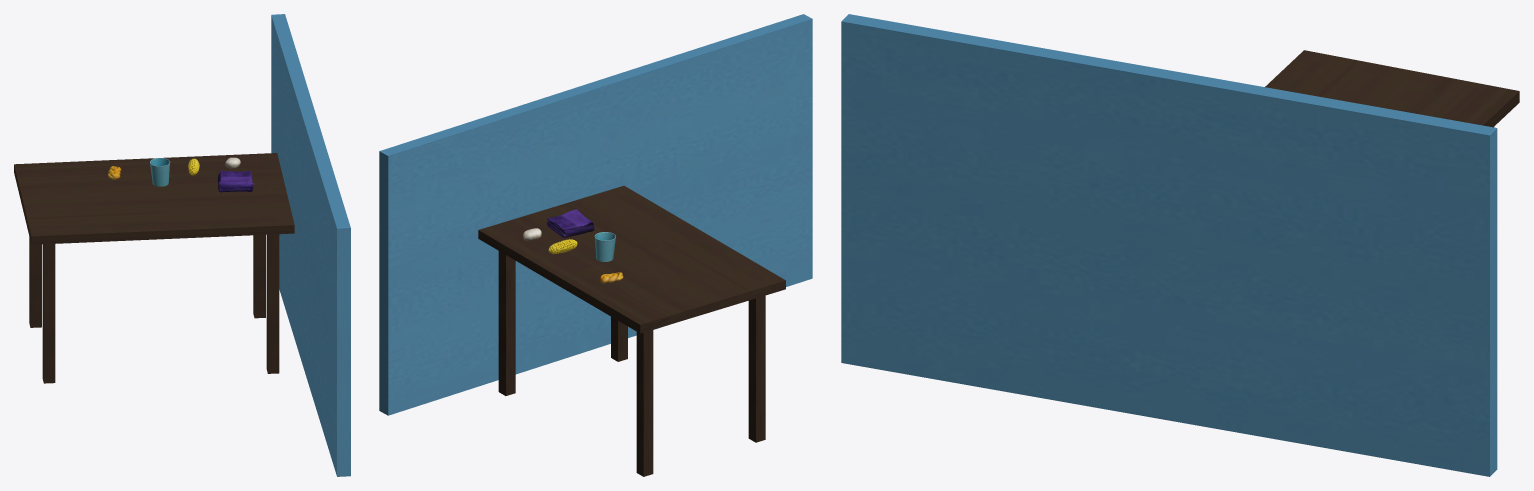
Rendered from ours.glb.
3 views of the same model, side by side, from view 1: azimuth 30°, elevation 25°; view 2: azimuth 150°, elevation 25°; view 3: azimuth 270°, elevation 25° (orthographic). The views are drawn at different scales.
Visible parts, largest first — view 1: table_0, wall_0, obj_towel_0, obj_cup_0; view 2: wall_0, table_0, obj_towel_0, obj_cup_0; view 3: wall_0, table_0.
Part boxes in pixels (x1,y1,x2,y2): table_0: [14, 153, 294, 383]; wall_0: [271, 14, 350, 476]; obj_towel_0: [218, 170, 253, 192]; obj_cup_0: [150, 158, 170, 186]; wall_0: [379, 14, 812, 415]; table_0: [478, 185, 785, 476]; obj_towel_0: [547, 209, 594, 237]; obj_cup_0: [594, 232, 615, 261]; wall_0: [841, 14, 1497, 476]; table_0: [1265, 50, 1519, 127].
Size of what is drawn, in the model's own units: 1.6 by 1.18 by 2.12.
7 materials, 7 textured.
